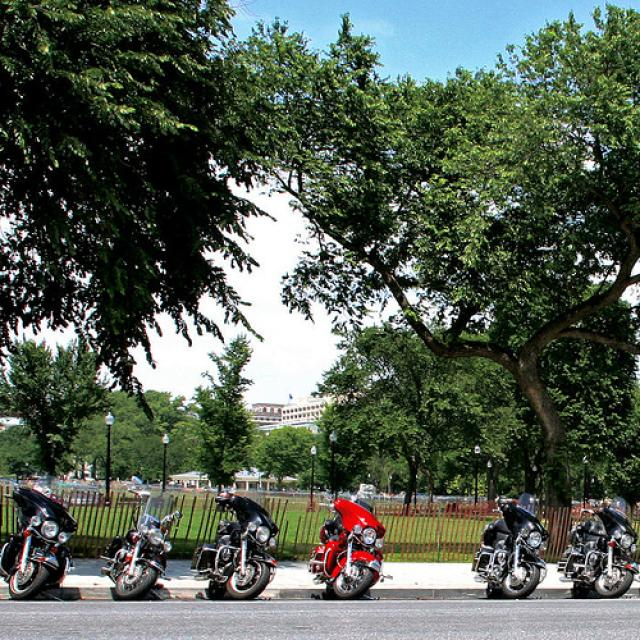motor: (0, 483, 86, 601), (193, 490, 283, 602), (98, 488, 183, 600), (556, 495, 640, 599), (472, 491, 552, 599), (308, 498, 386, 602)
